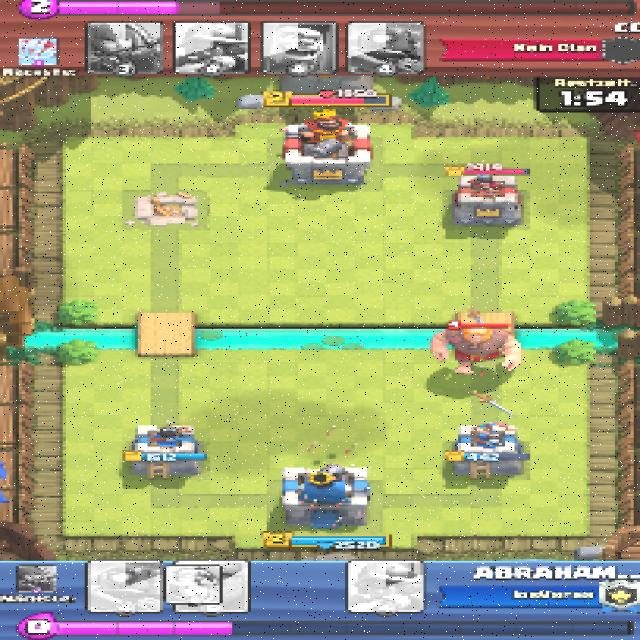Enemy-Giant: (426, 324, 523, 374)
